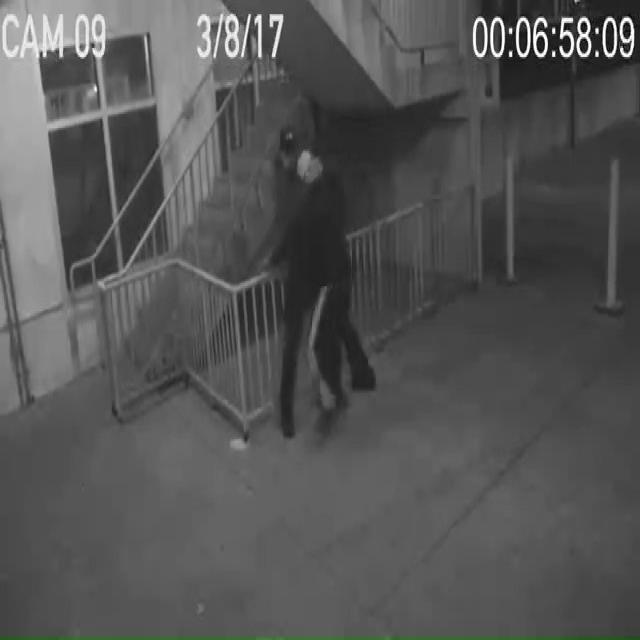fight: (270, 125, 376, 442)
